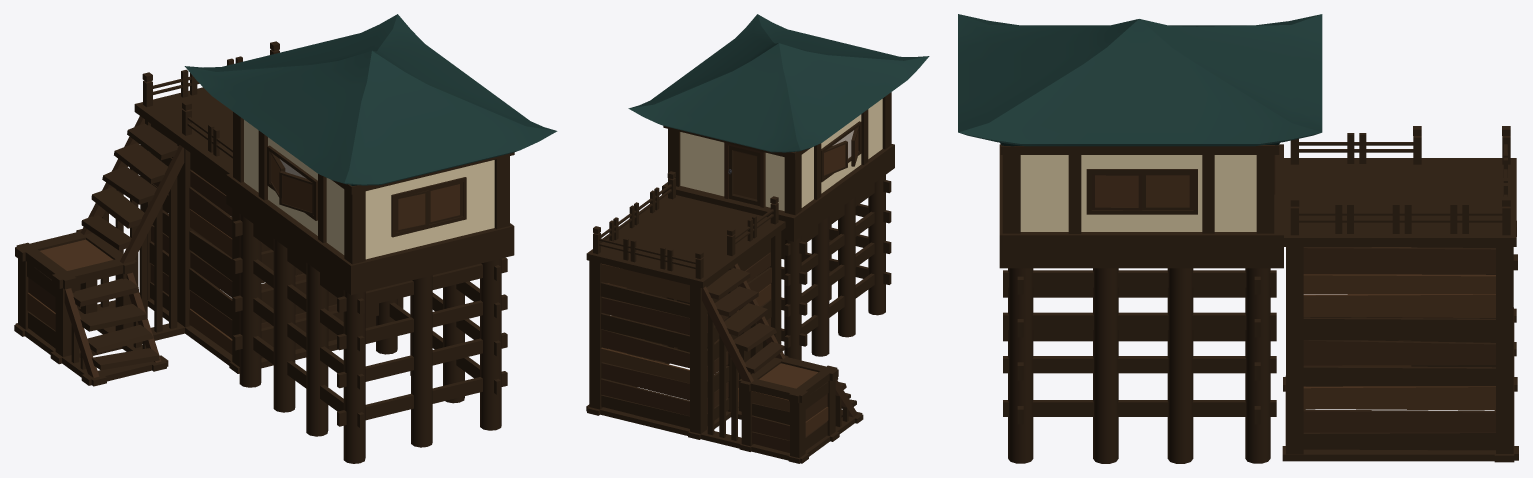
The model's file is houme019 2.fbx.
3 views of the same model, side by side, from view 1: azimuth 30°, elevation 25°; view 2: azimuth 150°, elevation 25°; view 3: azimuth 270°, elevation 25° (orthographic). The views are drawn at different scales.
Visible parts, largest first — view 1: houme19_2, stairs_19_1_2, high_base_of_the_house_19_1_2; view 2: stairs_19_1_2, houme19_2, high_base_of_the_house_19_1_2; view 3: houme19_2, stairs_19_1_2, high_base_of_the_house_19_1_2.
Part boxes in pixels (x1=…): houme19_2: x1=184, y1=14, x2=557, y2=294; stairs_19_1_2: x1=14, y1=41, x2=375, y2=386; high_base_of_the_house_19_1_2: x1=233, y1=214, x2=507, y2=463; stairs_19_1_2: x1=586, y1=171, x2=863, y2=463; houme19_2: x1=628, y1=14, x2=929, y2=241; high_base_of_the_house_19_1_2: x1=781, y1=175, x2=891, y2=360; houme19_2: x1=958, y1=14, x2=1322, y2=268; stairs_19_1_2: x1=1282, y1=126, x2=1518, y2=462; high_base_of_the_house_19_1_2: x1=1003, y1=268, x2=1276, y2=463.
Bounding box in the file's own units: 886 × 997 × 1258.
